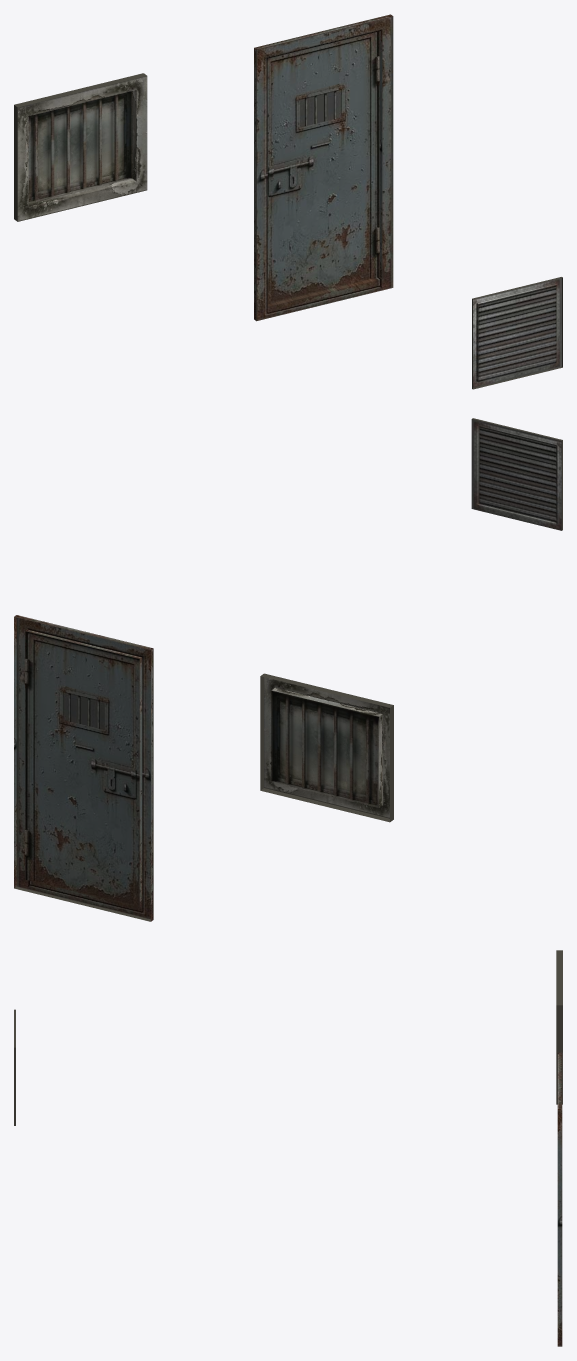
The model's file is door.fbx.
3 renders of one model, top to bottom at view 1: azimuth 30°, elevation 25°; view 2: azimuth 150°, elevation 25°; view 3: azimuth 270°, elevation 25°, orthographic. The views are drawn at different scales.
Visible parts, largest first — view 1: door; view 2: door; view 3: door.
Part boxes in pixels (box(x1,y1,x2,y2)): door: box(14, 14, 562, 389); door: box(14, 418, 562, 921); door: box(14, 950, 562, 1346).
Bounding box in the file's own units: 386 × 269 × 562.
